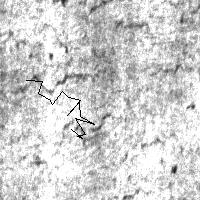crazing: (8, 110, 193, 169), (1, 19, 111, 96), (116, 1, 192, 77), (26, 80, 94, 138)
